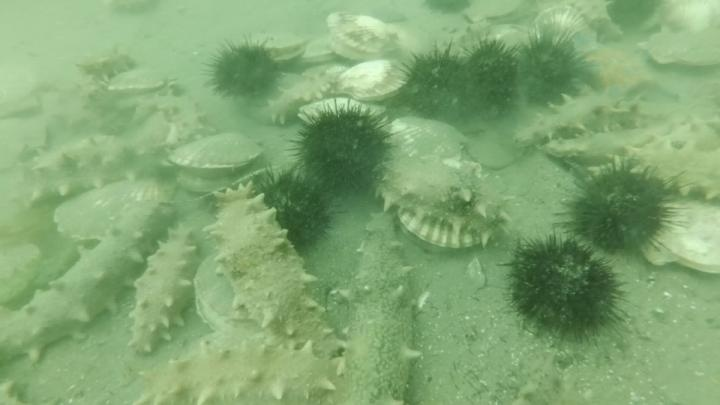echinus: (501, 230, 629, 345), (557, 155, 684, 266), (286, 97, 397, 201), (247, 164, 338, 255), (394, 42, 489, 128), (510, 29, 588, 110), (204, 35, 286, 103), (455, 35, 524, 114), (604, 1, 664, 36), (421, 1, 474, 19)
holothurian: (1, 206, 178, 368), (198, 181, 347, 358), (328, 209, 426, 404), (370, 126, 515, 255), (135, 333, 346, 405), (573, 114, 720, 206), (24, 129, 180, 206), (124, 224, 202, 359), (514, 87, 656, 152), (257, 65, 347, 128), (546, 124, 657, 170), (527, 3, 614, 51), (151, 91, 217, 152), (512, 350, 580, 404), (561, 1, 626, 45), (75, 44, 141, 85)
scallop: (369, 119, 515, 252), (34, 146, 178, 233), (50, 178, 171, 248), (161, 130, 268, 195), (375, 114, 472, 183), (642, 194, 720, 279), (392, 202, 502, 256), (99, 93, 186, 160), (322, 9, 408, 66), (641, 16, 720, 74), (190, 252, 244, 335), (334, 56, 414, 107), (456, 13, 539, 61), (528, 4, 606, 53), (1, 237, 46, 312), (238, 26, 315, 67), (1, 112, 51, 175), (1, 59, 46, 124), (102, 66, 177, 101), (293, 95, 362, 132), (659, 1, 719, 38), (463, 132, 518, 172), (462, 1, 534, 29)
starfish: (568, 36, 661, 103)
